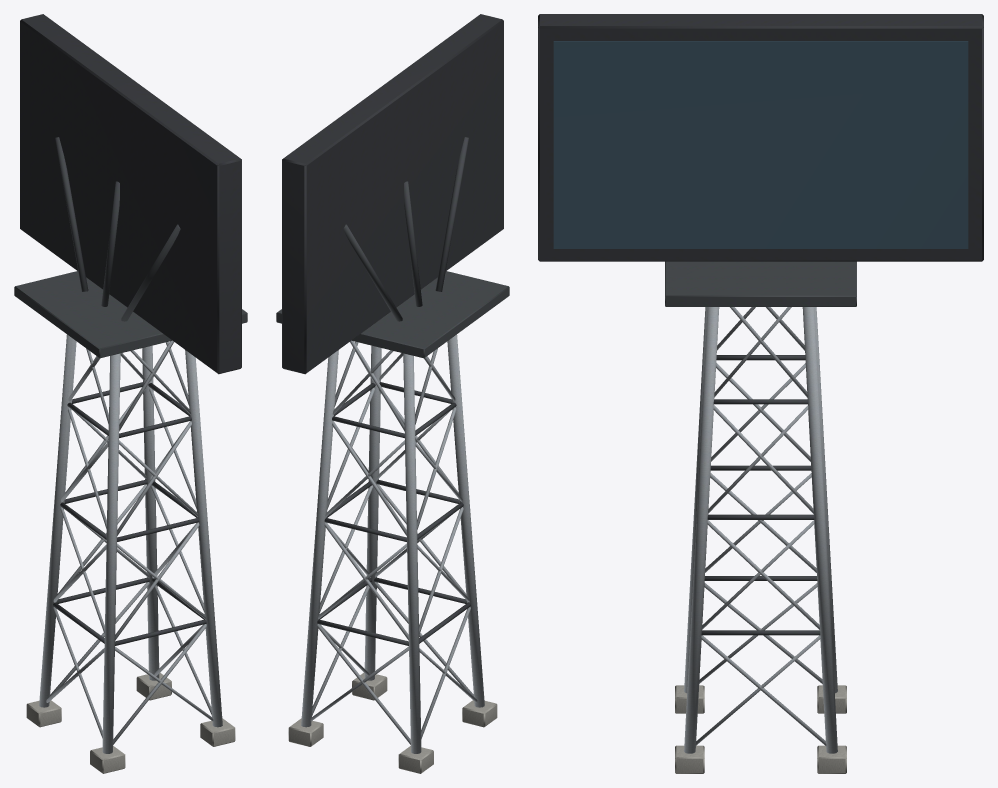
The model's file is screen-tower_high.glb.
The picture shows the model from 3 angles, left to right: view 1: azimuth 30°, elevation 25°; view 2: azimuth 150°, elevation 25°; view 3: azimuth 270°, elevation 25°; orthographic projection. The views are drawn at different scales.
Visible parts, largest first — view 1: rubber, galvanised, dark-steel, concrete; view 2: rubber, galvanised, dark-steel, concrete; view 3: glazing, rubber, galvanised, dark-steel, concrete.
Boxes of the visible parts, x1=… form: rubber: x1=20, y1=14, x2=241, y2=374; galvanised: x1=39, y1=334, x2=222, y2=753; dark-steel: x1=14, y1=137, x2=247, y2=645; concrete: x1=26, y1=672, x2=235, y2=773; rubber: x1=282, y1=14, x2=503, y2=374; galvanised: x1=301, y1=334, x2=484, y2=753; dark-steel: x1=276, y1=137, x2=509, y2=645; concrete: x1=288, y1=672, x2=497, y2=773; glazing: x1=553, y1=41, x2=968, y2=248; rubber: x1=538, y1=14, x2=983, y2=261; galvanised: x1=684, y1=307, x2=837, y2=753; dark-steel: x1=665, y1=261, x2=856, y2=635; concrete: x1=675, y1=685, x2=846, y2=773.
Bounding box in the file's own units: 3.1 × 12.8 × 7.2.
5 materials, 4 textured.
